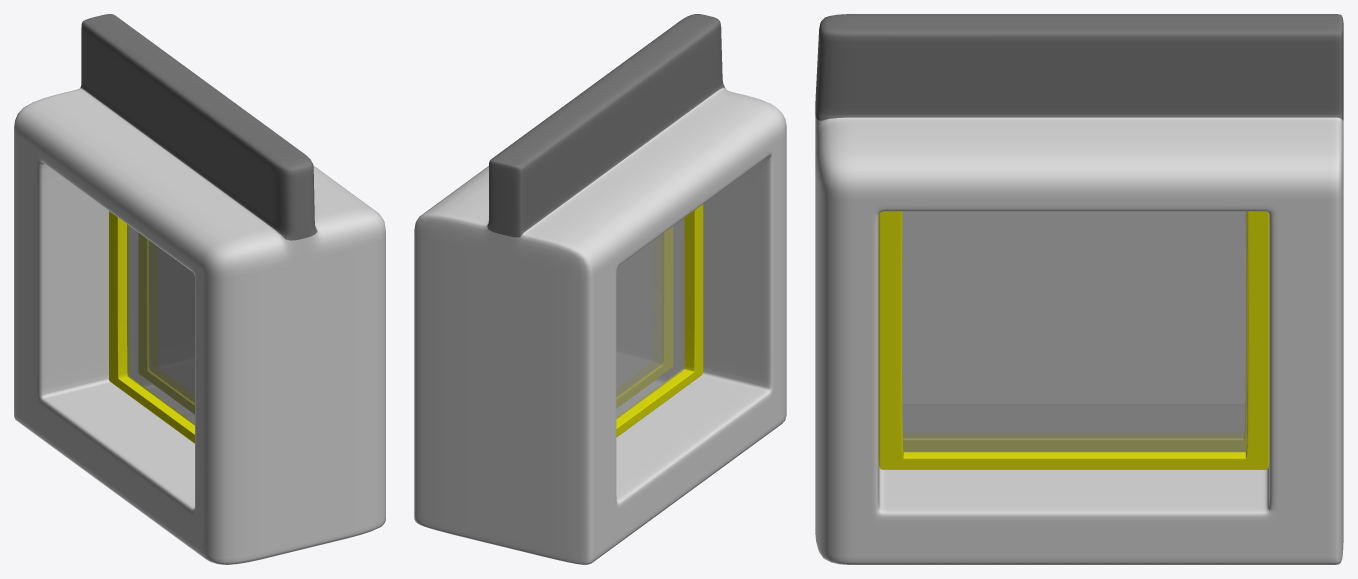
Rendered from FenceSegment_LP_FBX.fbx.
3 views of the same model, side by side, from view 1: azimuth 30°, elevation 25°; view 2: azimuth 150°, elevation 25°; view 3: azimuth 270°, elevation 25° (orthographic). The views are drawn at different scales.
Parts seen in each view (by area): view 1: polySurface139; view 2: polySurface139; view 3: polySurface139.
Part boxes in pixels (left/top/right/bottom): polySurface139: left=14, top=14, right=385, bottom=564; polySurface139: left=414, top=14, right=786, bottom=564; polySurface139: left=815, top=14, right=1343, bottom=564.
Bounding box in the file's own units: 50 × 104 × 101.
